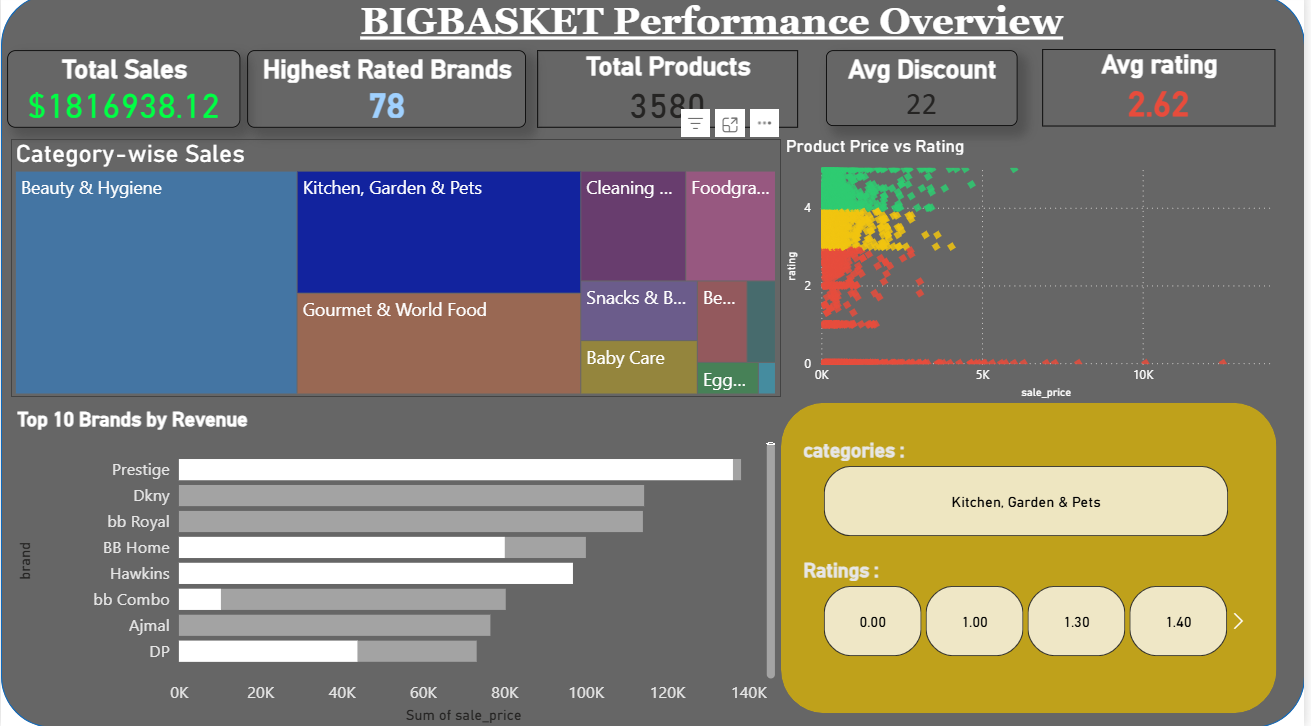

The page's visual inventory and layout, read from the dashboard file:
{"tool":"powerbi","page":{"name":"Page 1","canvas":[1280,720],"ordinal":0},"visuals":[{"type":"shape","box":[0,0,1280,720.3],"z":0},{"type":"shape","box":[765,401.8,486.4,304.8],"z":1000},{"type":"textbox","box":[202.8,0,990.2,74.6],"z":2000},{"type":"card","title":"Total Sales","fields":{"Values":["BigBasket Products.Measure"]},"box":[6.2,54.7,228.9,75.9],"z":3000},{"type":"card","title":"Avg rating","fields":{"Values":["BigBasket Products.reating"]},"box":[1022.5,53.5,228.9,75.9],"z":4000},{"type":"card","title":"Highest Rated Brands","fields":{"Values":["BigBasket Products.highest_rated"]},"box":[241.3,54.7,273.7,75.9],"z":5000},{"type":"card","title":"Avg Discount","fields":{"Values":["BigBasket Products.avgdis"]},"box":[809.8,54.7,187.8,74.6],"z":6000},{"type":"card","title":"Total Products","fields":{"Values":["BigBasket Products.total product1"]},"box":[526.2,54.7,256.3,75.9],"z":7000},{"type":"treemap","title":"Category-wise Sales","fields":{"Group":["BigBasket Products.category"],"Values":["Sum(BigBasket Products.sale_price)"]},"box":[10,141.8,755.1,255],"z":8000},{"type":"clusteredBarChart","title":"Top 10 Brands by Revenue","fields":{"Category":["BigBasket Products.brand"],"Y":["Sum(BigBasket Products.sale_price)"]},"box":[11.2,405.5,753.8,314.7],"z":9000},{"type":"scatterChart","title":" Product Price vs Rating","fields":{"X":["BigBasket Products.sale_price"],"Y":["BigBasket Products.rating"]},"box":[765,138.1,496.3,263.7],"z":10000},{"type":"advancedSlicerVisual","title":"categories :","fields":{"Values":["BigBasket Products (2).category"]},"box":[782.5,436.6,447.8,100.8],"z":11000},{"type":"advancedSlicerVisual","title":"Ratings :","fields":{"Values":["BigBasket Products.rating"]},"box":[782.5,554.8,447.8,100.8],"z":12001}]}

Visuals, with their boxes in screenshot pixels (x1, y1, x2, y2), scaled from the page's 1280x720 canvas onto the 1311x726 screenshot:
shape: [x1=0, y1=0, x2=1310, y2=725]
shape: [x1=784, y1=405, x2=1282, y2=712]
textbox: [x1=208, y1=0, x2=1222, y2=75]
"Total Sales" card: [x1=6, y1=55, x2=241, y2=132]
"Avg rating" card: [x1=1047, y1=54, x2=1282, y2=130]
"Highest Rated Brands" card: [x1=247, y1=55, x2=527, y2=132]
"Avg Discount" card: [x1=829, y1=55, x2=1022, y2=130]
"Total Products" card: [x1=539, y1=55, x2=801, y2=132]
"Category-wise Sales" treemap: [x1=10, y1=143, x2=784, y2=400]
"Top 10 Brands by Revenue" clusteredBarChart: [x1=11, y1=409, x2=784, y2=725]
" Product Price vs Rating" scatterChart: [x1=784, y1=139, x2=1292, y2=405]
"categories :" advancedSlicerVisual: [x1=801, y1=440, x2=1260, y2=542]
"Ratings :" advancedSlicerVisual: [x1=801, y1=559, x2=1260, y2=661]
